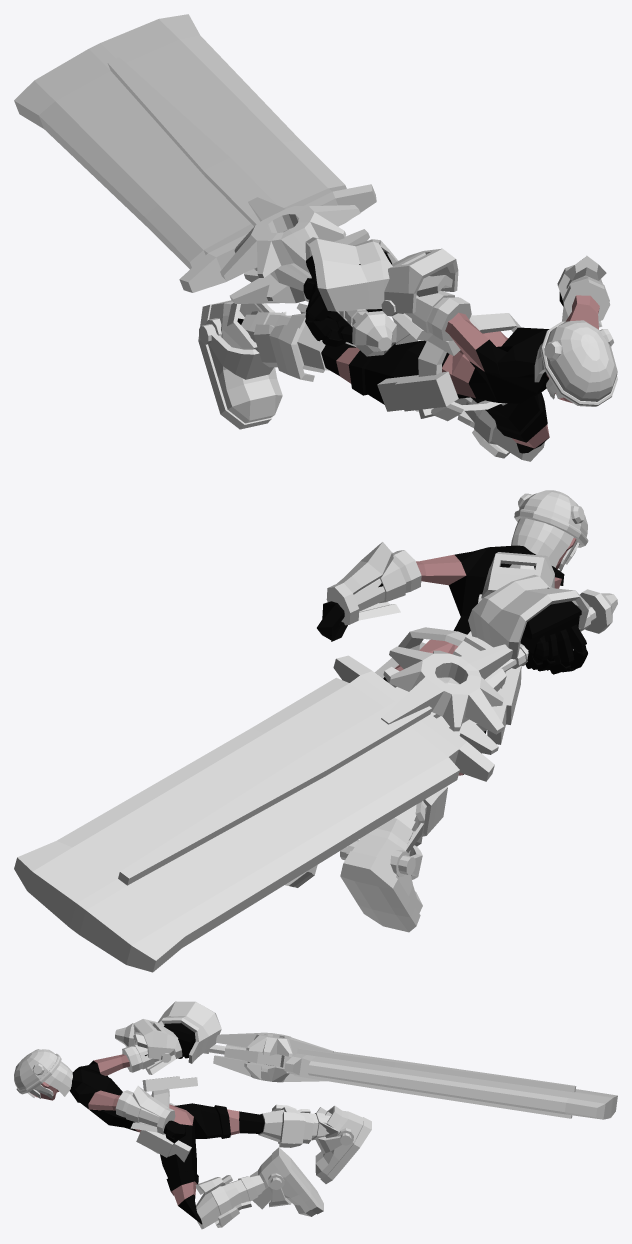
File: PlayerDashStatic.fbx
3 renders of one model, top to bottom at view 1: azimuth 30°, elevation 25°; view 2: azimuth 150°, elevation 25°; view 3: azimuth 270°, elevation 25°, orthographic. The views are drawn at different scales.
Parts seen in each view (by area): view 1: SwordHandle, Body, Shoe.R, Sleeve.R, Helmet, HandSleeve.R, Belt, ShoeGuard.R, Sleeve.L, ShoeGuard.L; view 2: SwordHandle, Body, Shoe.R, HandSleeve.R, Sleeve.L, Belt, Helmet, Hair, Sleeve.R, ShoeGuard.R; view 3: SwordHandle, Body, Shoe.L, Shoe.R, ShoeGuard.L, Sleeve.R, ShoeGuard.R, HandSleeve.R, Belt, Sleeve.L, Helmet, Hair.
Boxes of the visible parts, x1=… form: SwordHandle: x1=14, y1=14, x2=396, y2=356; Body: x1=237, y1=251, x2=599, y2=453; Shoe.R: x1=198, y1=300, x2=286, y2=429; Sleeve.R: x1=381, y1=248, x2=471, y2=340; Helmet: x1=540, y1=320, x2=617, y2=406; HandSleeve.R: x1=305, y1=237, x2=398, y2=311; Belt: x1=377, y1=313, x2=521, y2=421; ShoeGuard.R: x1=241, y1=303, x2=355, y2=381; Sleeve.L: x1=557, y1=256, x2=610, y2=327; ShoeGuard.L: x1=454, y1=397, x2=544, y2=461; SwordHandle: x1=14, y1=589, x2=617, y2=972; Body: x1=317, y1=538, x2=587, y2=775; Shoe.R: x1=340, y1=818, x2=423, y2=932; HandSleeve.R: x1=468, y1=574, x2=589, y2=659; Sleeve.L: x1=326, y1=542, x2=421, y2=625; Belt: x1=375, y1=627, x2=521, y2=744; Helmet: x1=514, y1=490, x2=588, y2=547; Hair: x1=511, y1=518, x2=579, y2=571; Sleeve.R: x1=478, y1=552, x2=554, y2=602; ShoeGuard.R: x1=394, y1=786, x2=447, y2=846; SwordHandle: x1=115, y1=1023, x2=617, y2=1119; Body: x1=31, y1=1023, x2=264, y2=1224; Shoe.L: x1=250, y1=1147, x2=323, y2=1216; Shoe.R: x1=315, y1=1105, x2=371, y2=1183; ShoeGuard.L: x1=195, y1=1175, x2=265, y2=1229; Sleeve.R: x1=122, y1=1019, x2=182, y2=1074; ShoeGuard.R: x1=258, y1=1104, x2=330, y2=1147; HandSleeve.R: x1=154, y1=1001, x2=221, y2=1063; Belt: x1=136, y1=1076, x2=197, y2=1162; Sleeve.L: x1=115, y1=1086, x2=175, y2=1134; Helmet: x1=14, y1=1049, x2=61, y2=1094; Hair: x1=27, y1=1061, x2=72, y2=1098.
Bounding box in the file's own units: 0.944 × 0.8609 × 2.82.
